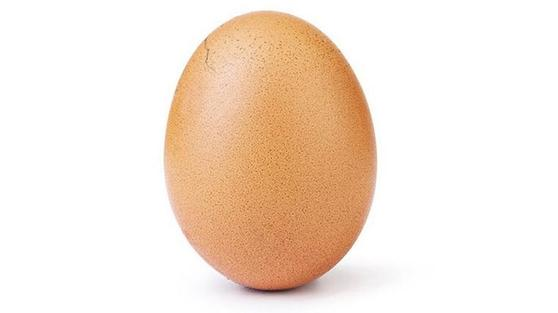egg: (160, 13, 381, 297)
